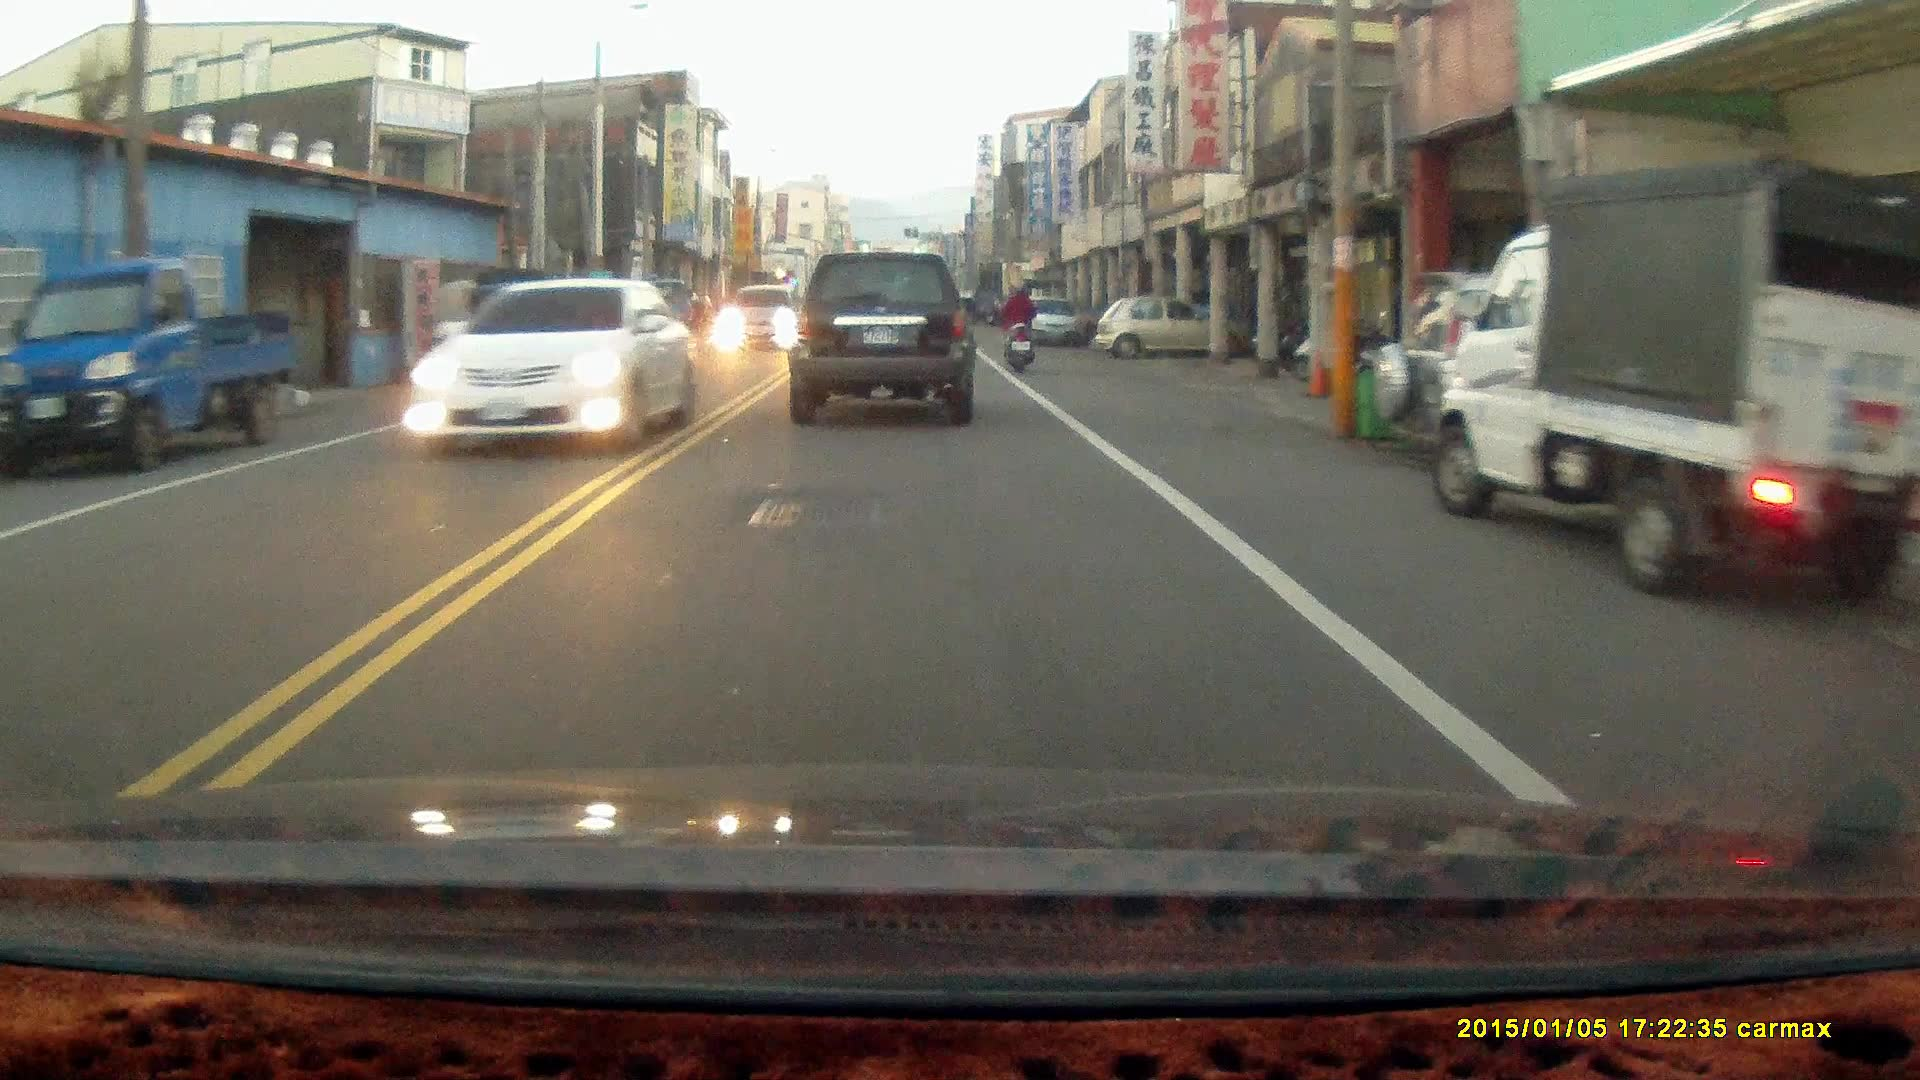rider: (999, 278, 1036, 373)
vehicle: (1430, 154, 1920, 608), (1381, 273, 1842, 468), (8, 267, 297, 475), (407, 273, 702, 456), (786, 247, 982, 427), (1094, 293, 1217, 358), (1019, 295, 1084, 347)
